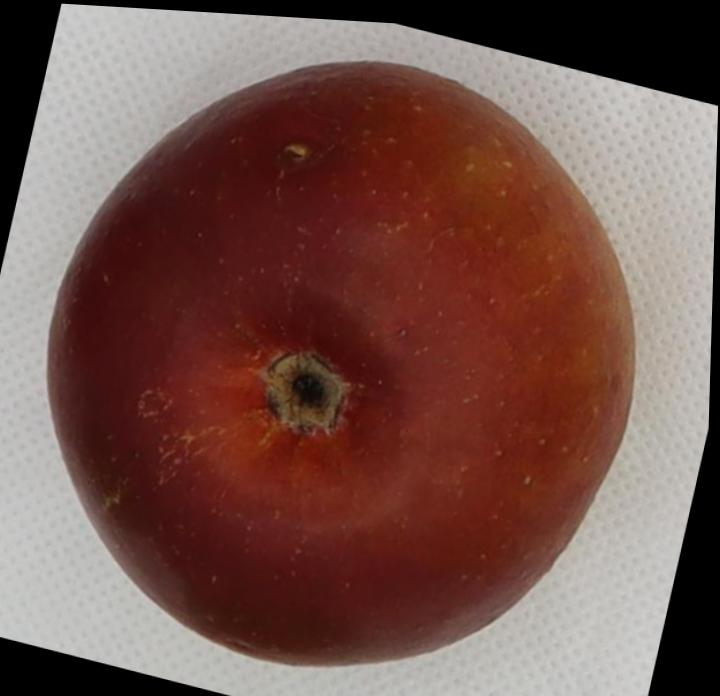apple: (48, 63, 632, 665)
surface_damage: (282, 143, 310, 162)
